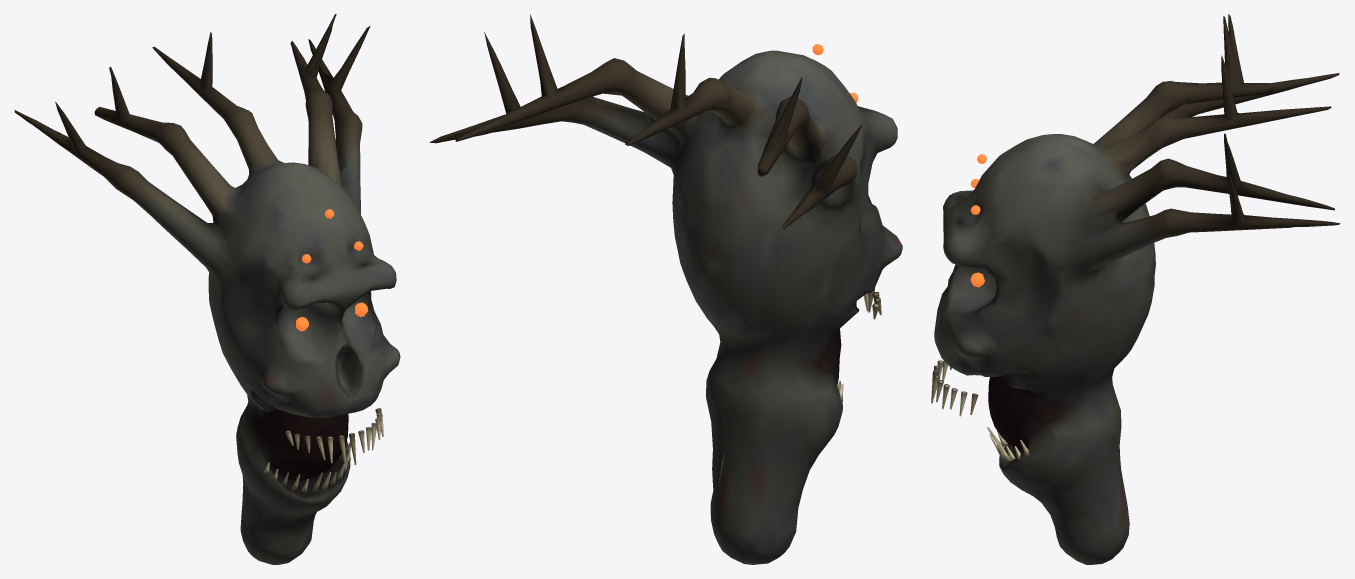
Rendered from giant_head.glb.
The picture shows the model from 3 angles, left to right: view 1: azimuth 30°, elevation 25°; view 2: azimuth 150°, elevation 25°; view 3: azimuth 270°, elevation 25°; orthographic projection. The views are drawn at different scales.
Visible parts, largest first — view 1: giant_head; view 2: giant_head; view 3: giant_head.
Boxes of the visible parts, x1=… form: giant_head: x1=14, y1=14, x2=400, y2=564; giant_head: x1=429, y1=14, x2=902, y2=564; giant_head: x1=931, y1=14, x2=1340, y2=564.
Size of the model in its own units: 0.3632 by 0.5349 by 0.393.
